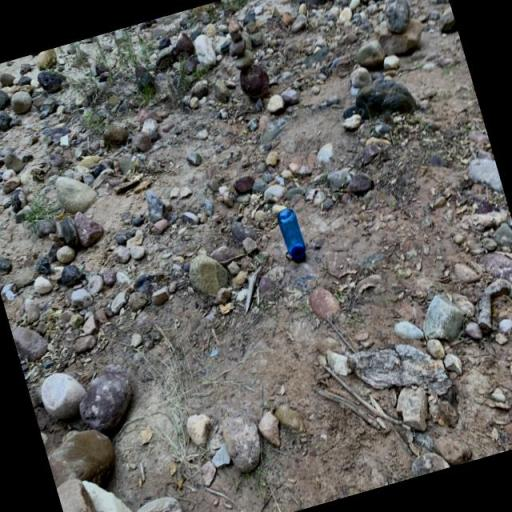bottle: (272, 206, 310, 267)
